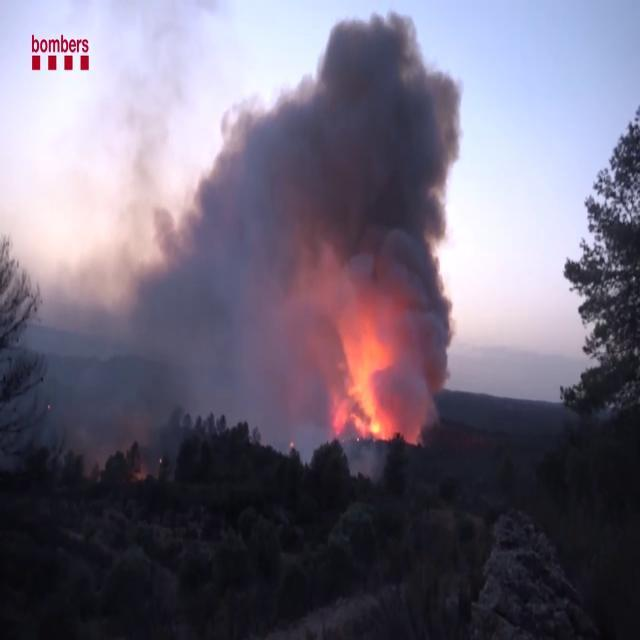Fire: (327, 312, 404, 439)
Smoke: (6, 1, 474, 442)
